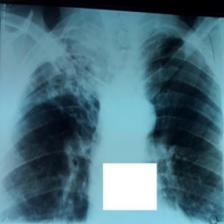tuberculosis: (1, 25, 224, 224)
